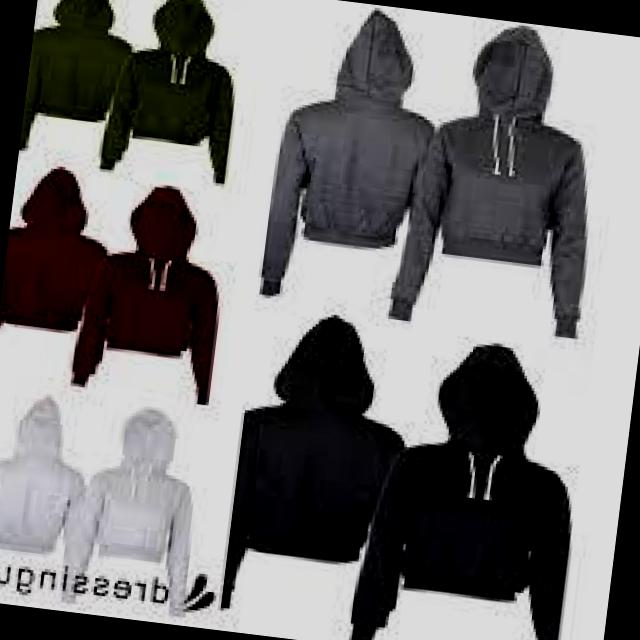sweater: (344, 317, 613, 640), (364, 14, 624, 344), (235, 0, 449, 327), (213, 300, 414, 625), (60, 176, 246, 410), (51, 404, 213, 614), (90, 0, 264, 193), (0, 155, 122, 343), (17, 0, 143, 171)
